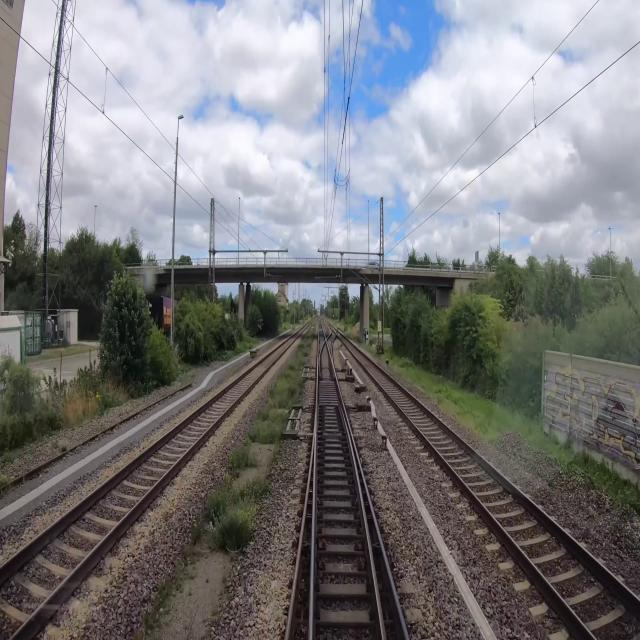Plant: (244, 343, 310, 454), (186, 473, 265, 553), (135, 573, 179, 639), (319, 323, 337, 377), (229, 446, 258, 479)
